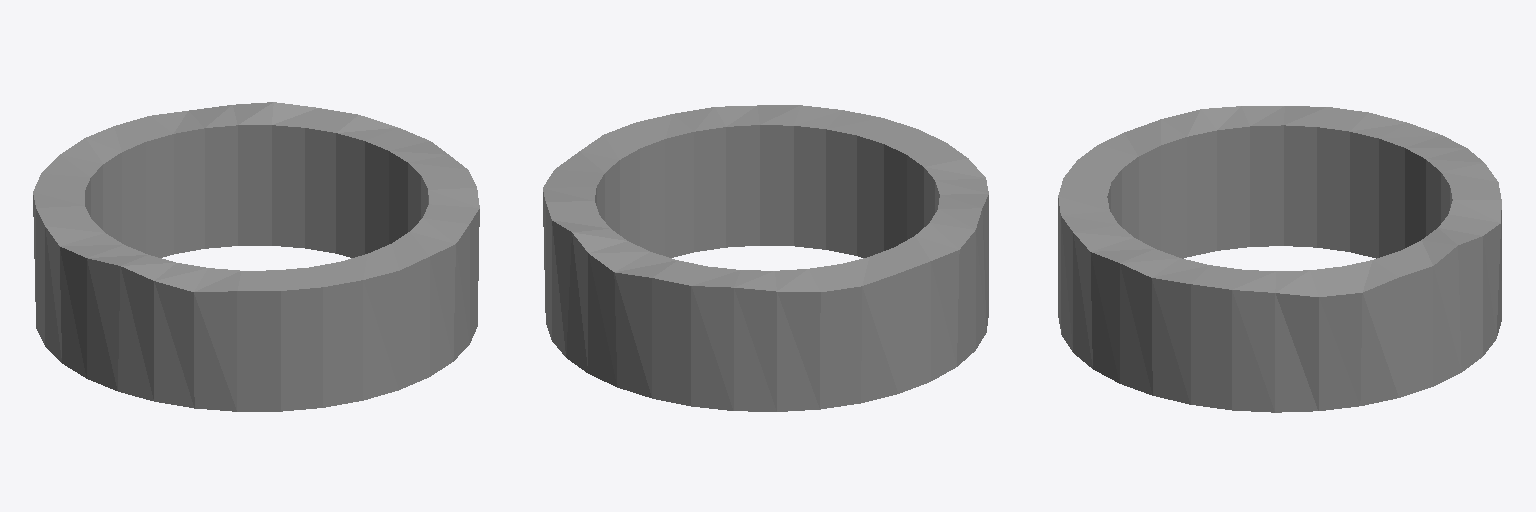
The model's file is tape3.obj.
3 views of the same model, side by side, from view 1: azimuth 30°, elevation 25°; view 2: azimuth 150°, elevation 25°; view 3: azimuth 270°, elevation 25° (orthographic).
Visible parts, largest first — view 1: Cylinder.001; view 2: Cylinder.001; view 3: Cylinder.001.
Part boxes in pixels (x1,y1,x2,y2): Cylinder.001: (33, 102, 479, 411); Cylinder.001: (543, 105, 988, 411); Cylinder.001: (1058, 106, 1501, 412).
Bounding box in the file's own units: 7.81 × 2.41 × 7.73.